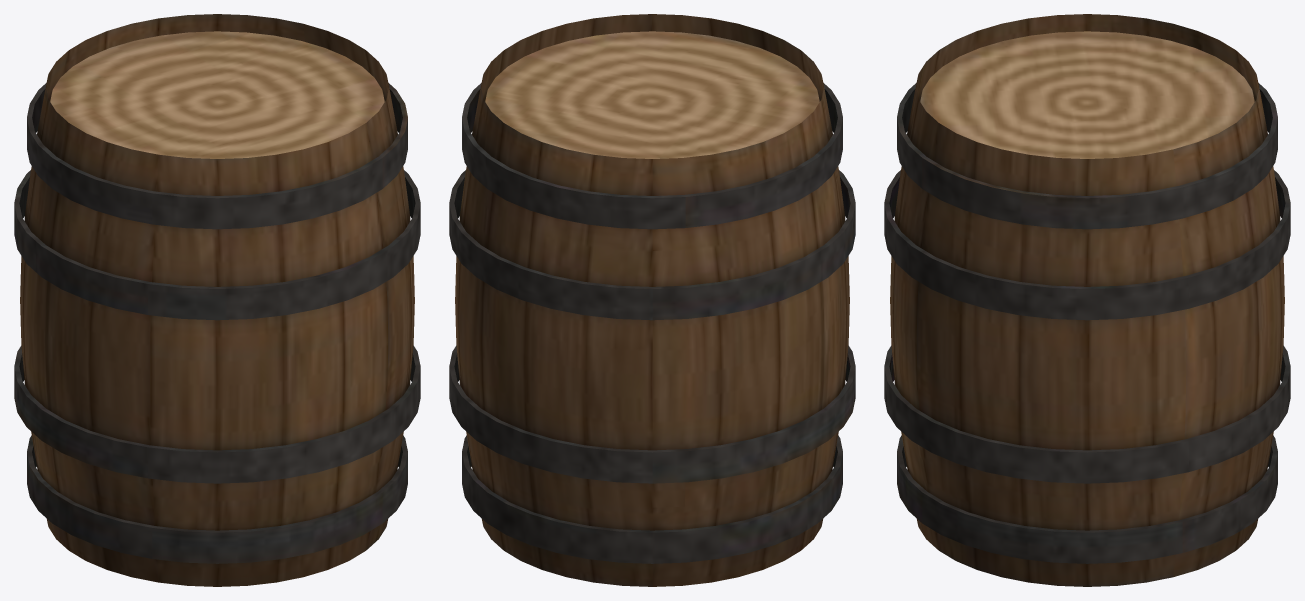
File: barrel.glb
3 renders of one model, left to right at view 1: azimuth 30°, elevation 25°; view 2: azimuth 150°, elevation 25°; view 3: azimuth 270°, elevation 25°, orthographic.
Visible parts, largest first — view 1: barrel; view 2: barrel; view 3: barrel.
Boxes of the visible parts, <box> form: barrel: <box>14,14,420,586</box>; barrel: <box>449,14,855,586</box>; barrel: <box>884,14,1290,586</box>.
Bounding box in the file's own units: 0.9471 × 1.1 × 0.9471.
Materials: 1 (1 with a texture image).
